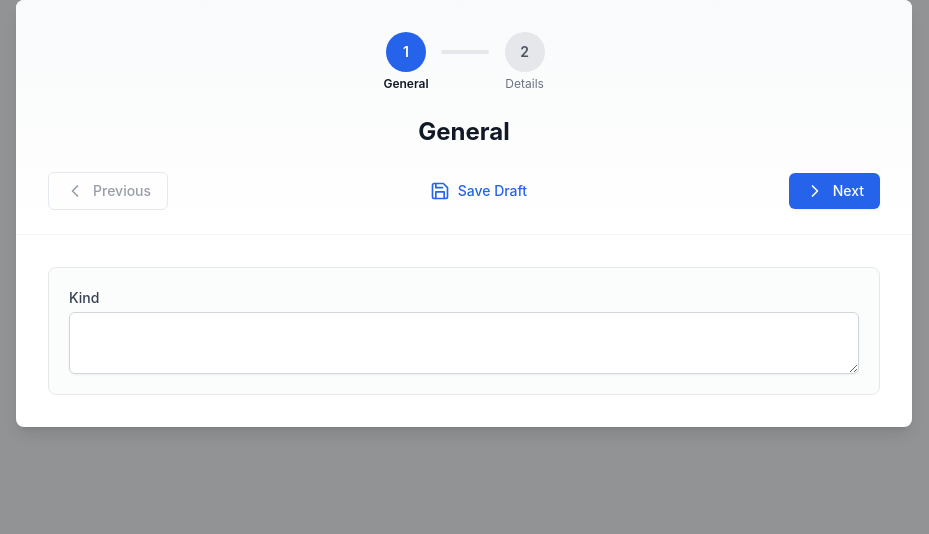
it: FormWizard required Boolean left untouched (KNG-53) › field that becomes visible conditionally: Next passes and false is saved
Type "paid" into the text box.
click(464, 343); type("paid")  # box [69, 312, 859, 374]
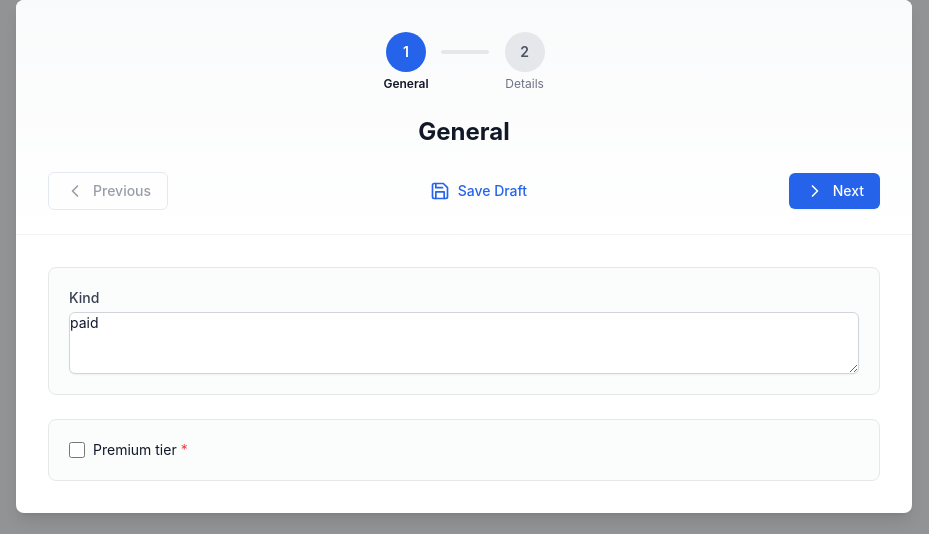
Now the checkbox is not checked, box [69, 442, 85, 458]
Click the button "Next".
click(834, 191)  # box [789, 173, 880, 209]
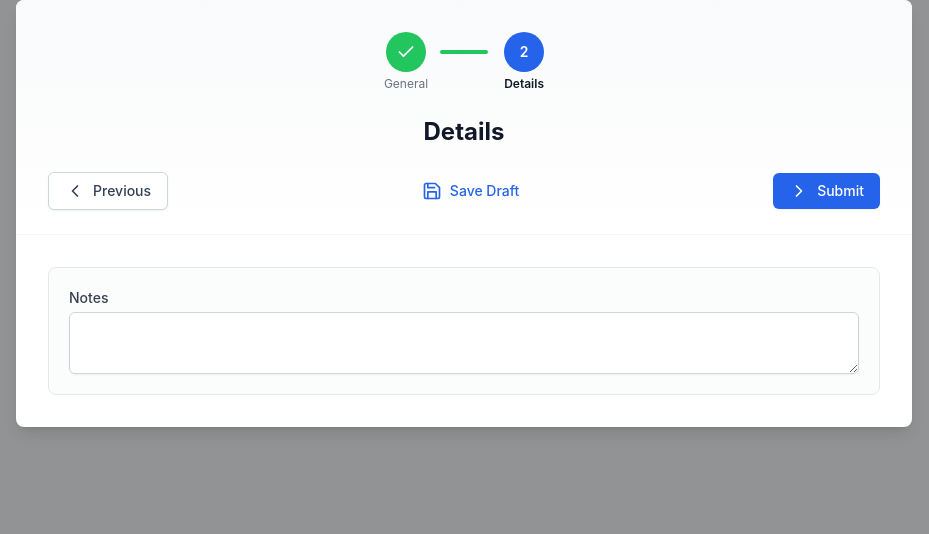
Now the button "Submit" is shown, box [773, 173, 880, 209]
